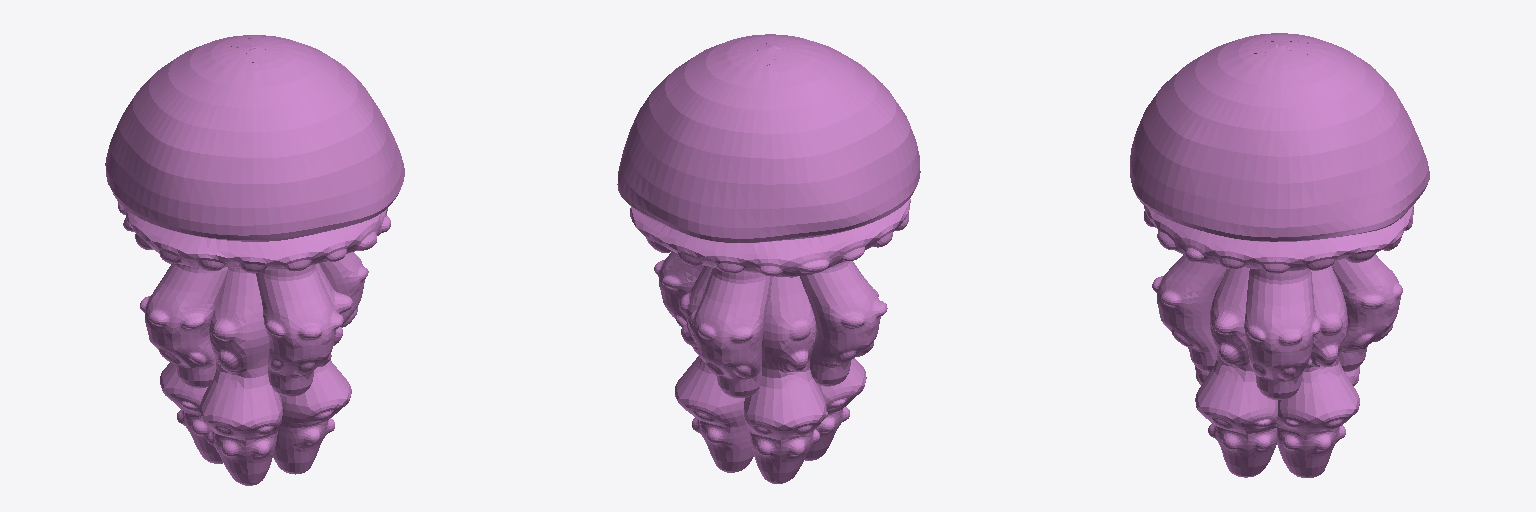
The picture shows the model from 3 angles: view 1: azimuth 30°, elevation 25°; view 2: azimuth 150°, elevation 25°; view 3: azimuth 270°, elevation 25°; orthographic projection.
Parts seen in each view (by area): view 1: 21443_Jellyfish_V1; view 2: 21443_Jellyfish_V1; view 3: 21443_Jellyfish_V1.
Boxes of the visible parts, box(x1,y1,x2,y2) form: 21443_Jellyfish_V1: box(105, 35, 404, 485); 21443_Jellyfish_V1: box(617, 34, 920, 483); 21443_Jellyfish_V1: box(1130, 33, 1429, 477).
Size of the model in its own units: 2.52 by 3.88 by 2.52.
Materials: 3 (1 with a texture image).